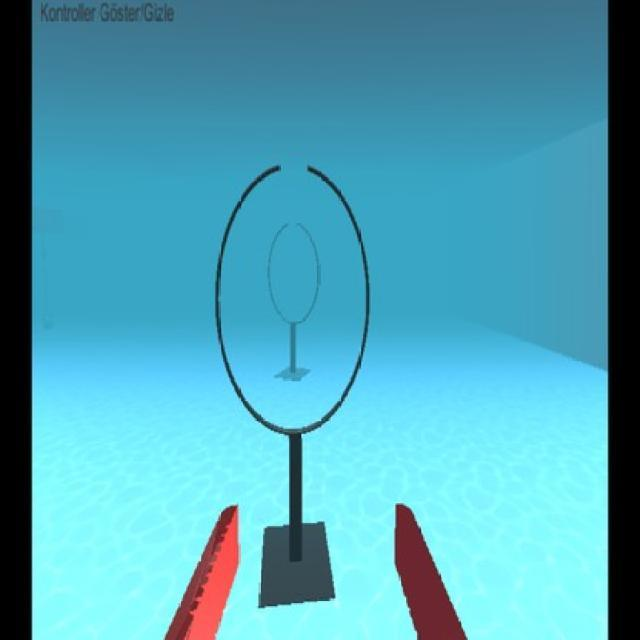Circle: (210, 154, 378, 448), (264, 216, 324, 330)
